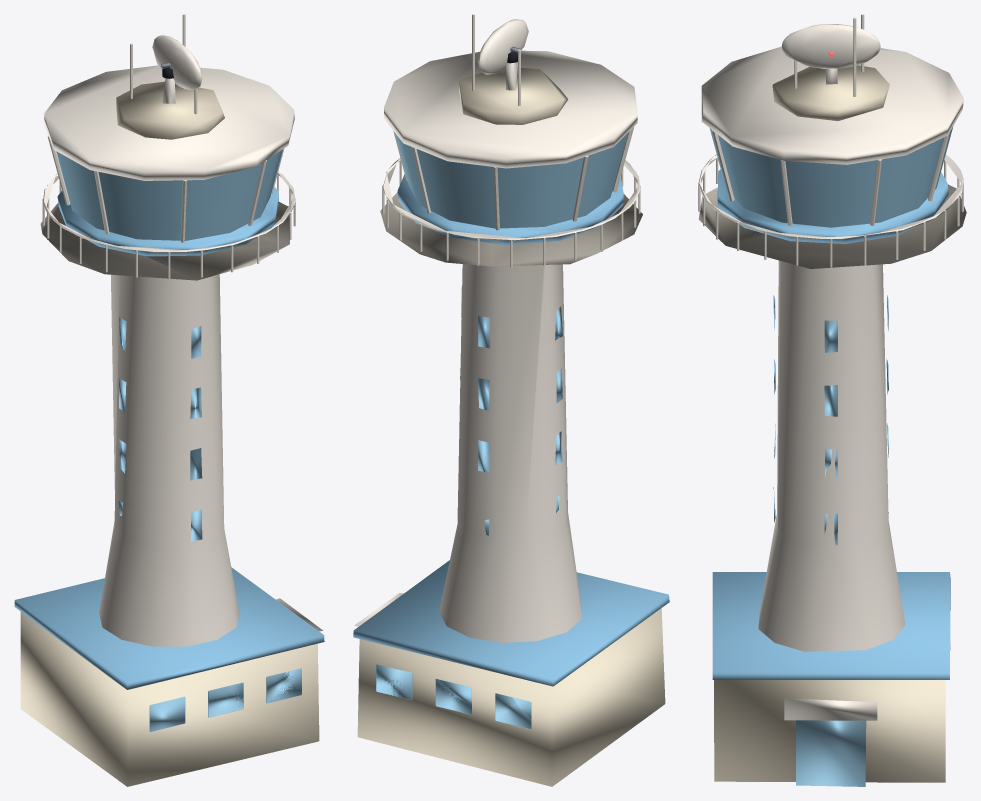
Rendered from control_tower.glb.
3 views of the same model, side by side, from view 1: azimuth 30°, elevation 25°; view 2: azimuth 150°, elevation 25°; view 3: azimuth 270°, elevation 25° (orthographic). The views are drawn at different scales.
Visible parts, largest first — view 1: control_tower.001, radar.001; view 2: control_tower.001, radar.001; view 3: control_tower.001, radar.001.
Boxes of the visible parts, bbox=[...] form: control_tower.001: bbox=[14, 14, 324, 786]; radar.001: bbox=[152, 35, 202, 90]; control_tower.001: bbox=[353, 14, 669, 786]; radar.001: bbox=[477, 19, 528, 74]; control_tower.001: bbox=[698, 14, 966, 786]; radar.001: bbox=[781, 24, 880, 68].
Bounding box in the file's own units: 7.5 × 20.54 × 6.83.
1 material, 1 textured.
